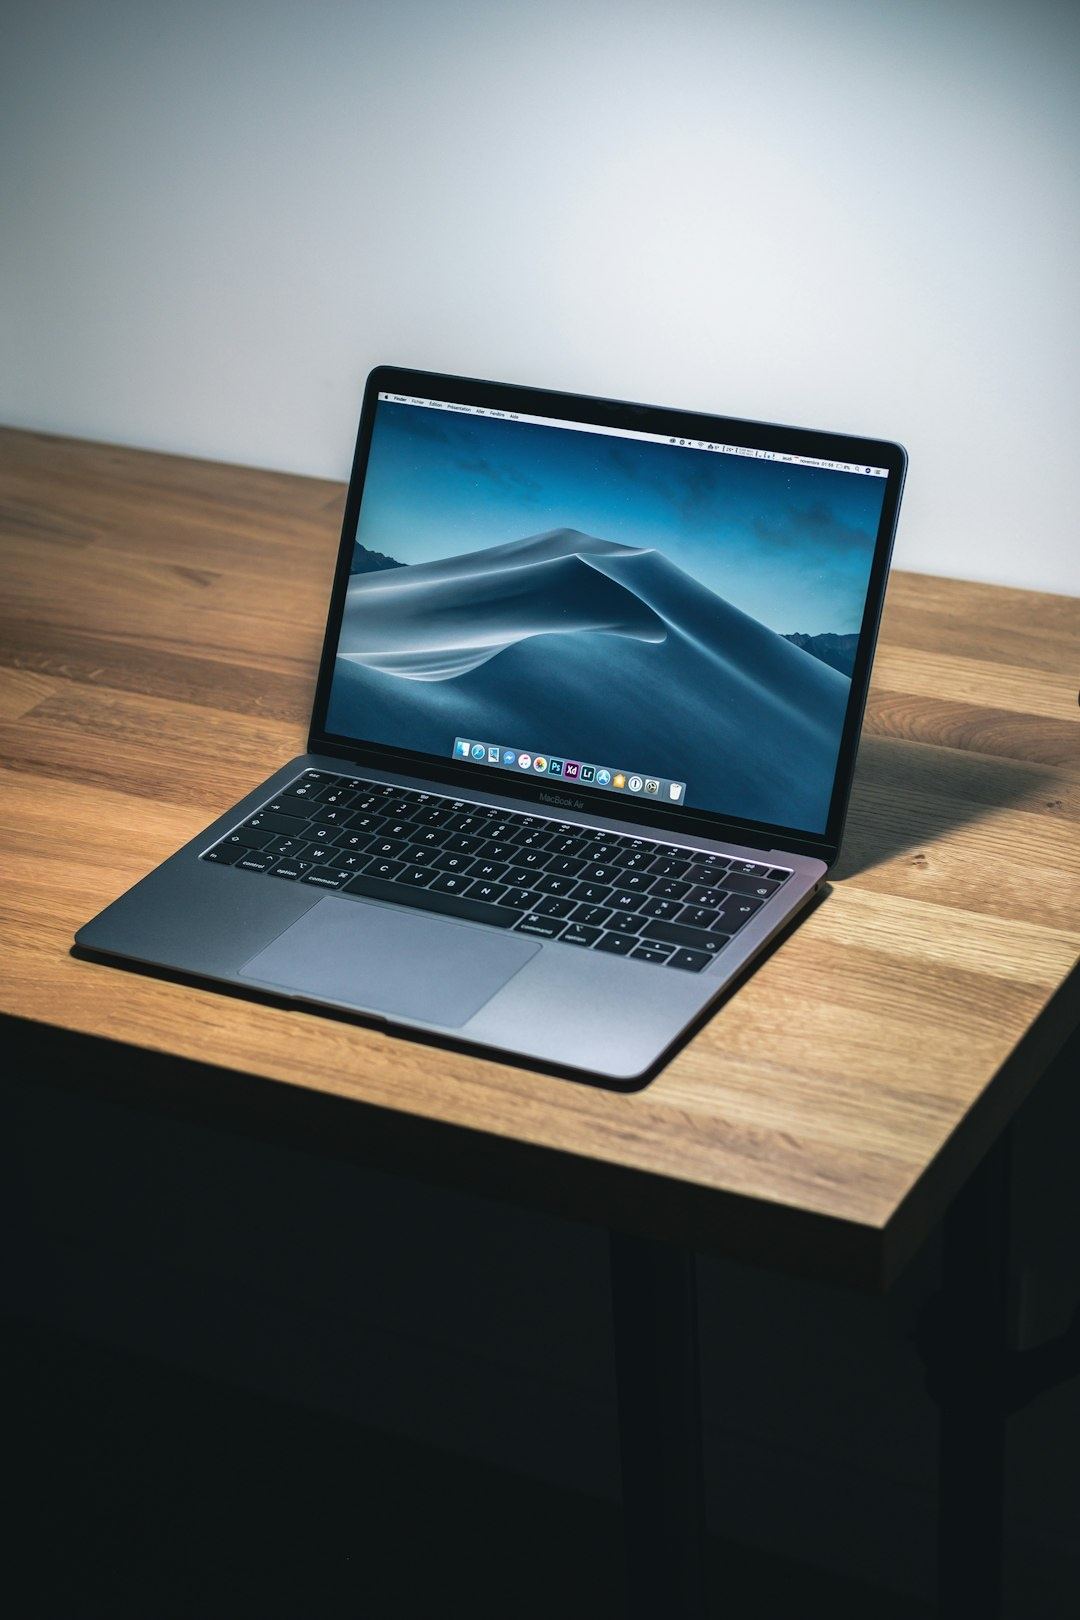laptop: (53, 268, 935, 1135)
